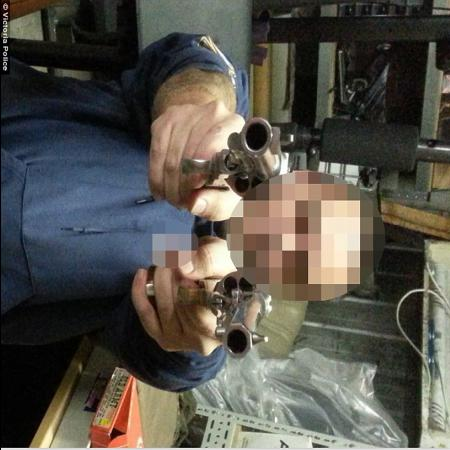Pistol: (140, 262, 278, 358), (179, 115, 285, 191)
